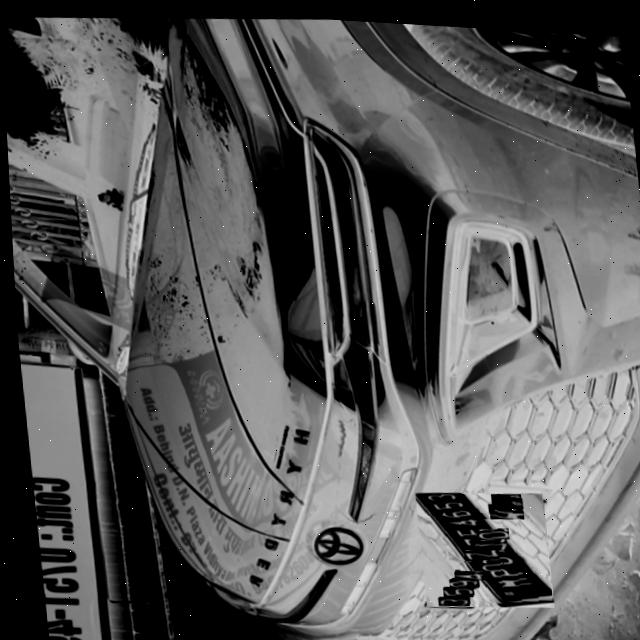0: (471, 523, 504, 535)
3: (432, 590, 463, 601)
4: (448, 564, 480, 575)
5: (437, 580, 467, 593)
6: (443, 572, 473, 585)
7: (465, 532, 502, 545)
F: (453, 553, 488, 566)
IND: (487, 488, 519, 504)
Indian_registered: (411, 487, 546, 597)
M: (484, 500, 520, 514)
P: (477, 510, 516, 524)
Z: (458, 543, 494, 556)
